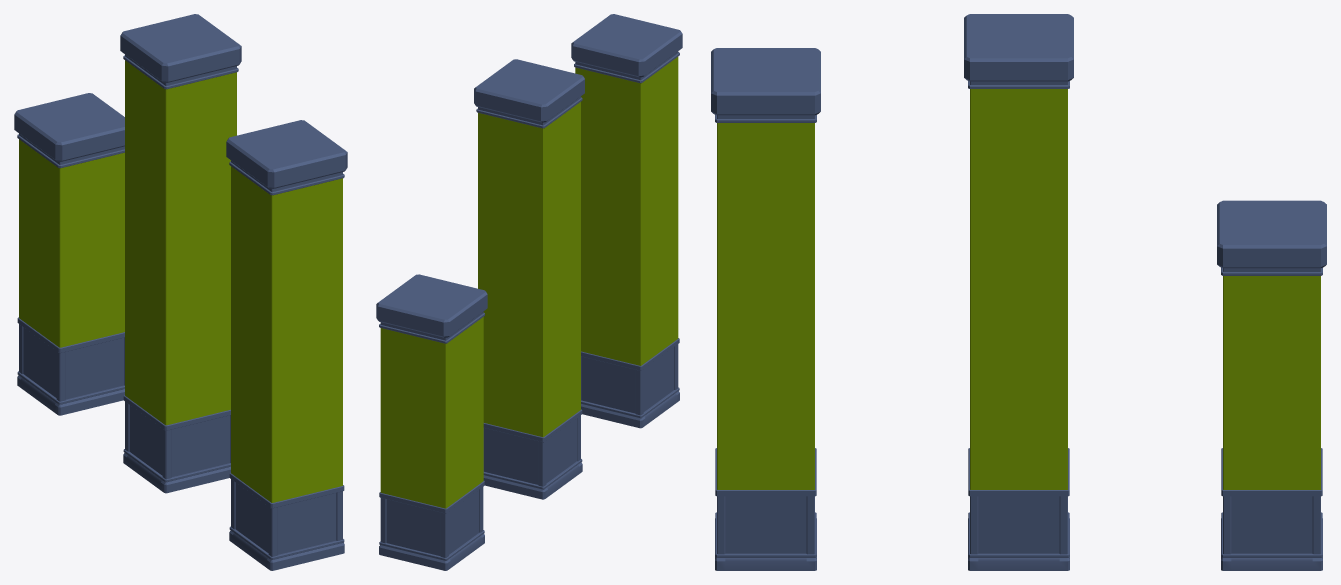
Rendered from TempA_Pillars_01_Low.fbx.
3 views of the same model, side by side, from view 1: azimuth 30°, elevation 25°; view 2: azimuth 150°, elevation 25°; view 3: azimuth 270°, elevation 25° (orthographic). The views are drawn at different scales.
Visible parts, largest first — view 1: TempA_TallPillar_02_Low, TempA_TallPillar_01_Low, TempA_ShortPillar_01_Low; view 2: TempA_TallPillar_02_Low, TempA_TallPillar_01_Low, TempA_ShortPillar_01_Low; view 3: TempA_TallPillar_02_Low, TempA_TallPillar_01_Low, TempA_ShortPillar_01_Low.
Part boxes in pixels (x1,y1,x2,y2): TempA_TallPillar_02_Low: (120,14,241,493); TempA_TallPillar_01_Low: (226,120,347,570); TempA_ShortPillar_01_Low: (14,93,124,415); TempA_TallPillar_02_Low: (474,59,584,499); TempA_TallPillar_01_Low: (571,14,682,428); TempA_ShortPillar_01_Low: (376,274,487,570); TempA_TallPillar_02_Low: (964,14,1073,570); TempA_TallPillar_01_Low: (711,48,820,570); TempA_ShortPillar_01_Low: (1217,200,1326,570).
Size of the model in its own units: 1.31 by 6.71 by 7.3.
